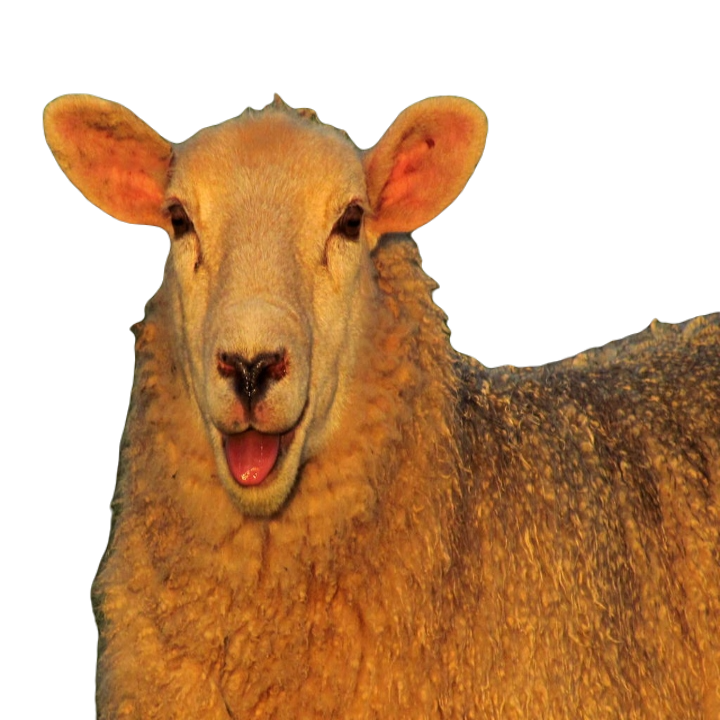Sheep: (38, 88, 719, 719)
